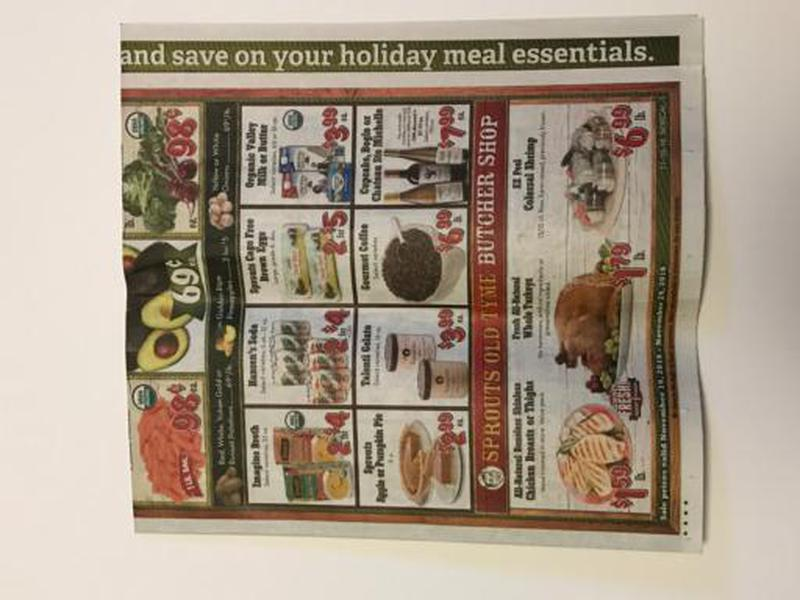paper: (118, 12, 717, 556)
